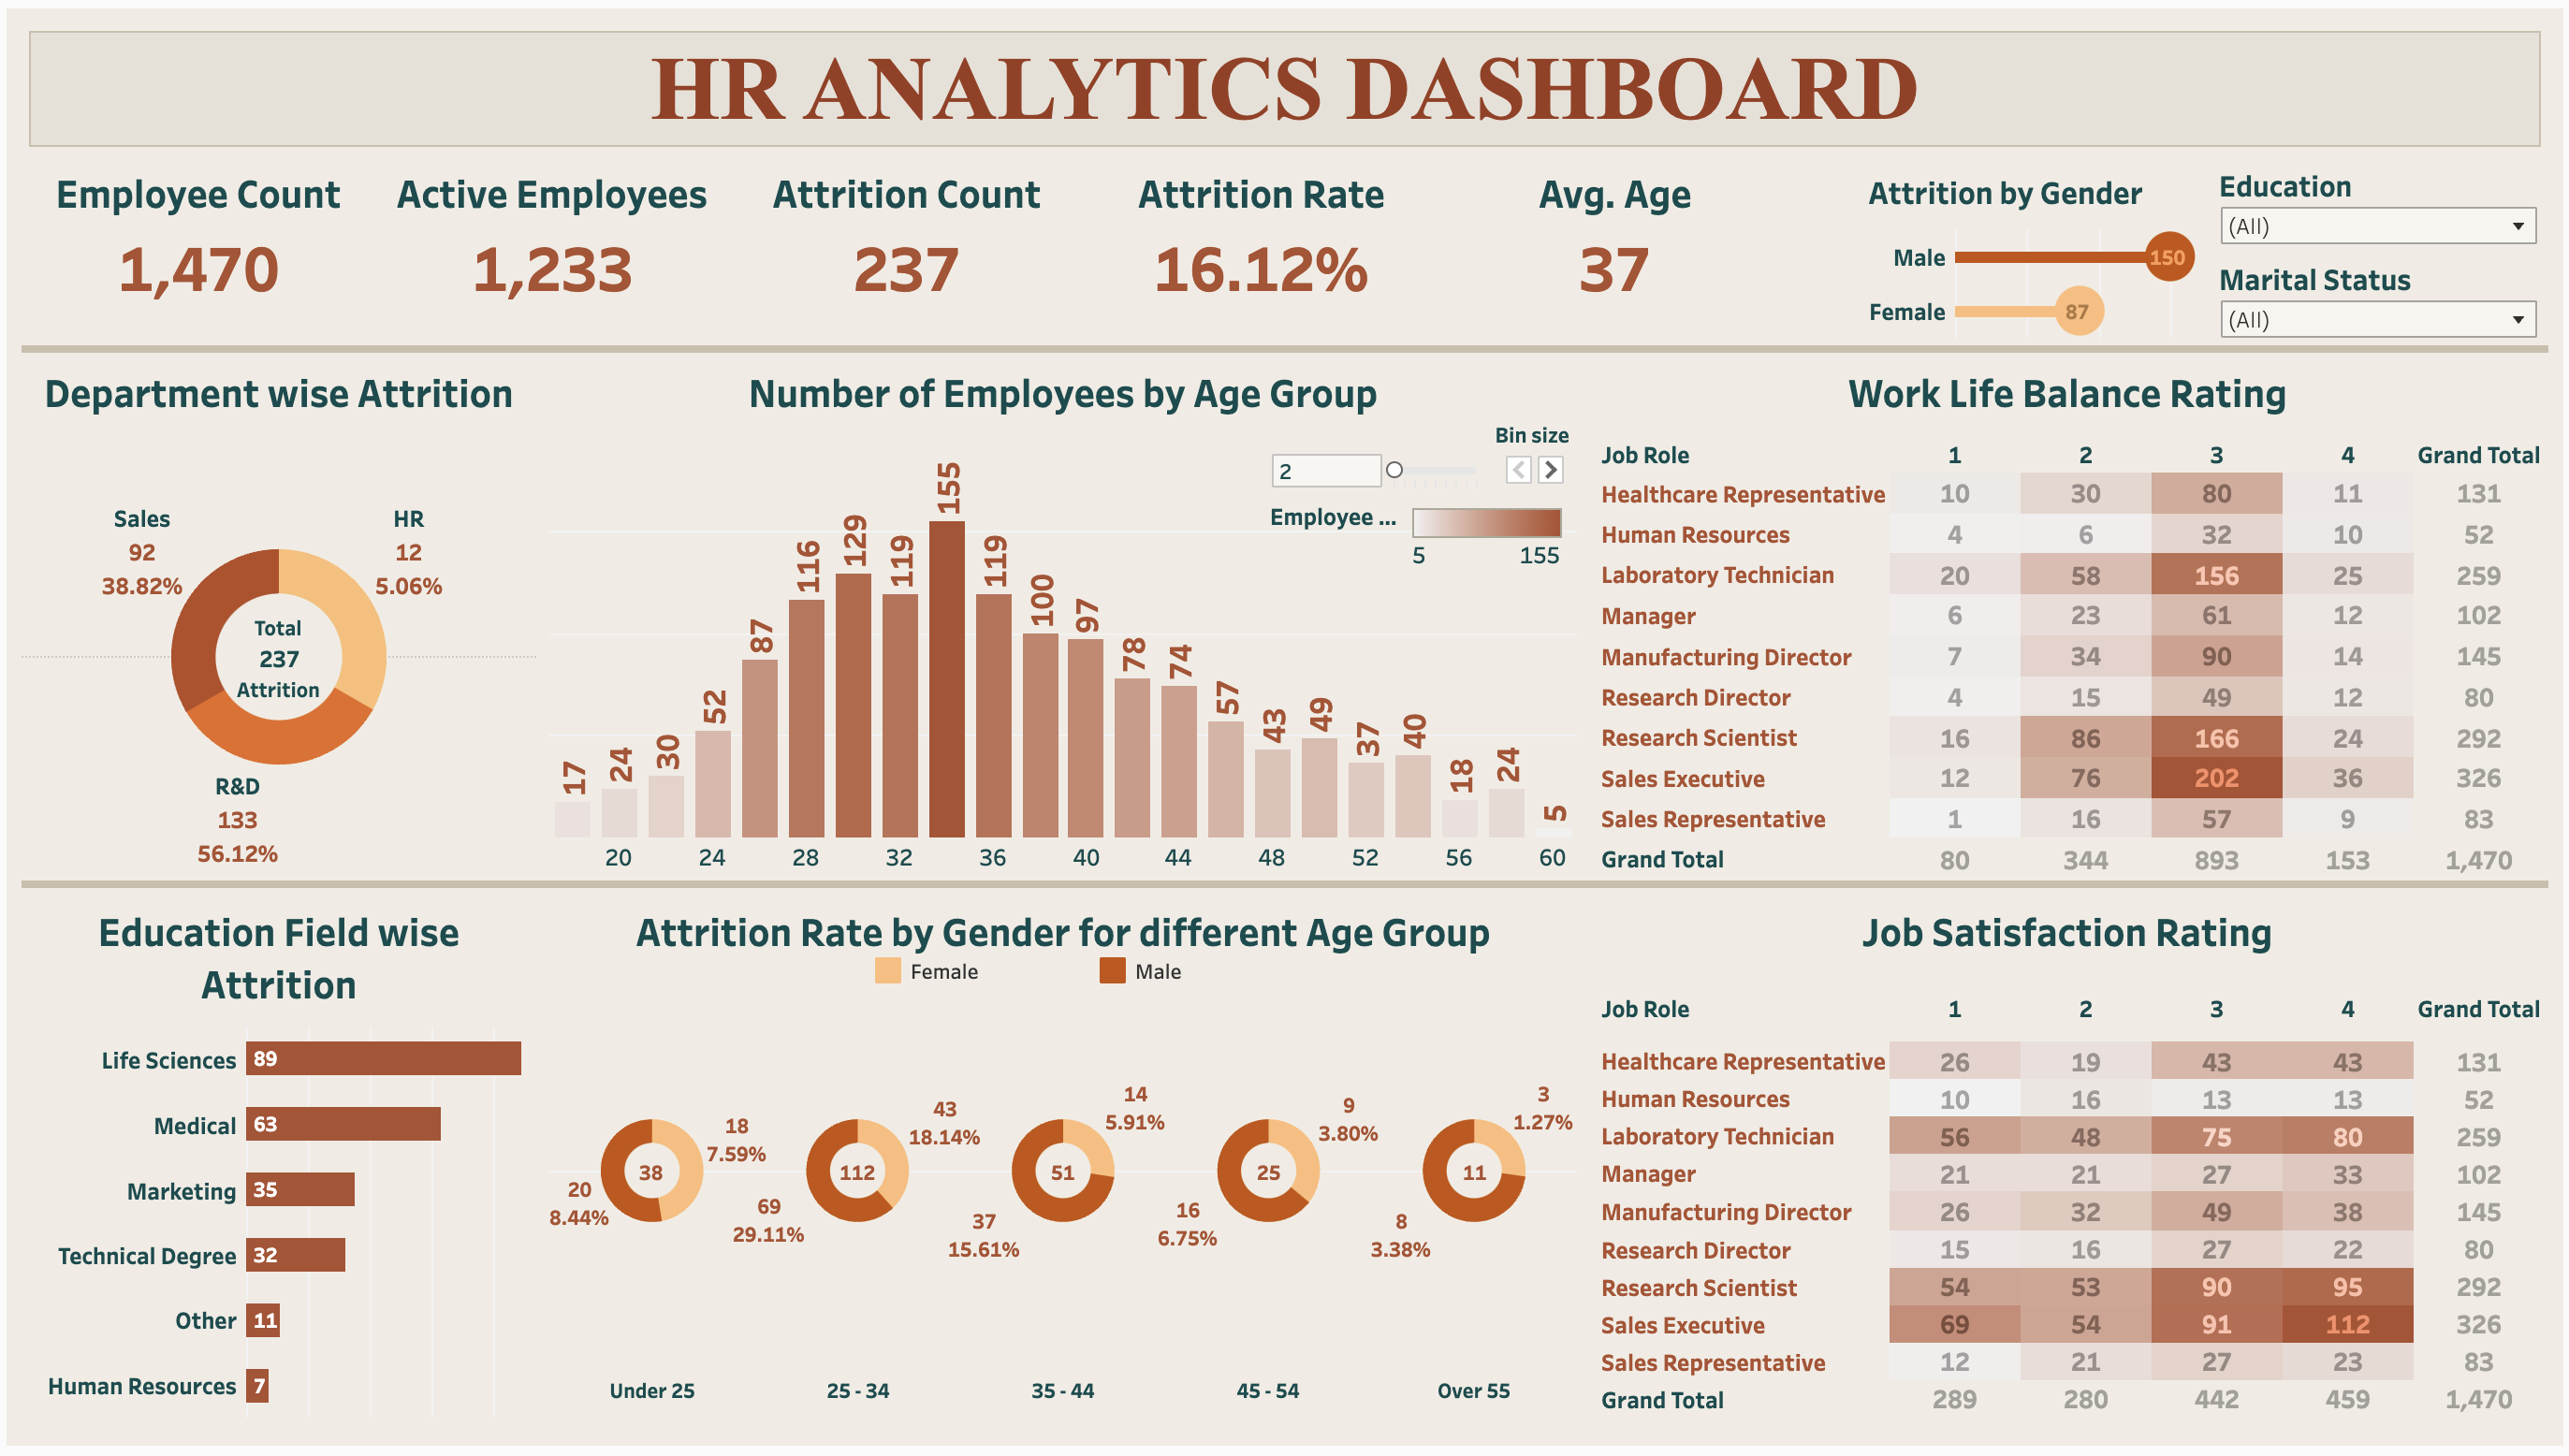

This screenshot's page, from the dashboard's own definition file:
{"tool":"tableau","page":{"name":"HR Analytics","canvas":[1366,768],"ordinal":0},"visuals":[{"type":"title","box":[8,8,1350,70]},{"type":"worksheet","title":"Key Metrics","mark":"Automatic","box":[8,80,946,95]},{"type":"worksheet","title":"Attr_Gender","mark":"Bar","rows":["Gender"],"cols":["Calculation_1103381950114521088","Calculation_1103381950114521088"],"box":[961,80,214,96]},{"type":"filter","title":"Key Metrics","param":"[federated.04iine81syusdi10vu8xj0gdw2zf].[none:Education:nk]","box":[1182,84,171,44]},{"type":"filter","title":"Key Metrics","param":"[federated.04iine81syusdi10vu8xj0gdw2zf].[none:Marital Status:nk]","box":[1182,134,171,42]},{"type":"blank","box":[8,180,1350,4]},{"type":"worksheet","title":"Dept_Attrition","mark":"Pie","rows":["Calculation_1103381950131744771","Calculation_1103381950131765253"],"box":[8,185,275,280]},{"type":"worksheet","title":"Emp by Age","mark":"Bar","rows":["Employee Count"],"cols":["Age (bin)"],"box":[290,185,549,280]},{"type":"worksheet","title":"Work Life Balance","mark":"Square","rows":["Job Role"],"cols":["Work Life Balance"],"box":[846,185,510,280]},{"type":"parameter","param":"[Parameters].[Parameter 1]","box":[675,220,160,39]},{"type":"legend","title":"Emp by Age","param":"[federated.04iine81syusdi10vu8xj0gdw2zf].[sum:Employee Count:qk]","box":[675,263,160,39]},{"type":"blank","box":[8,466,1350,4]},{"type":"worksheet","title":"Edu Attrition","mark":"Bar","rows":["Education Field"],"cols":["Calculation_1103381950114521088"],"box":[8,473,275,280]},{"type":"worksheet","title":"Attr_Gender_Age","mark":"Pie","rows":["Calculation_1103381950212464647","Calculation_1103381950212493321"],"cols":["CF_age band"],"box":[290,473,549,280]},{"type":"worksheet","title":"Job Satisfaction","mark":"Square","rows":["Job Role"],"cols":["Job Satisfaction"],"box":[846,473,510,280]},{"type":"legend","title":"Attr_Gender_Age","param":"[federated.04iine81syusdi10vu8xj0gdw2zf].[none:Gender:nk]","box":[461,504,253,23]}]}

Visuals, with their boxes in screenshot pixels (x1, y1, x2, y2), scaled from the page's 1366x768 canvas onto the 2569x1456 screenshot:
title: box=[15, 15, 2554, 148]
"Key Metrics" worksheet: box=[15, 152, 1794, 332]
"Attr_Gender" worksheet (Bar marks): box=[1807, 152, 2210, 334]
"Key Metrics" filter: box=[2223, 159, 2545, 242]
"Key Metrics" filter: box=[2223, 254, 2545, 334]
blank: box=[15, 342, 2554, 349]
"Dept_Attrition" worksheet (Pie marks): box=[15, 351, 533, 881]
"Emp by Age" worksheet (Bar marks): box=[546, 351, 1578, 881]
"Work Life Balance" worksheet (Square marks): box=[1591, 351, 2550, 881]
parameter: box=[1269, 417, 1570, 491]
"Emp by Age" legend: box=[1269, 499, 1570, 573]
blank: box=[15, 883, 2554, 891]
"Edu Attrition" worksheet (Bar marks): box=[15, 896, 533, 1428]
"Attr_Gender_Age" worksheet (Pie marks): box=[546, 896, 1578, 1428]
"Job Satisfaction" worksheet (Square marks): box=[1591, 896, 2550, 1428]
"Attr_Gender_Age" legend: box=[867, 955, 1343, 999]
